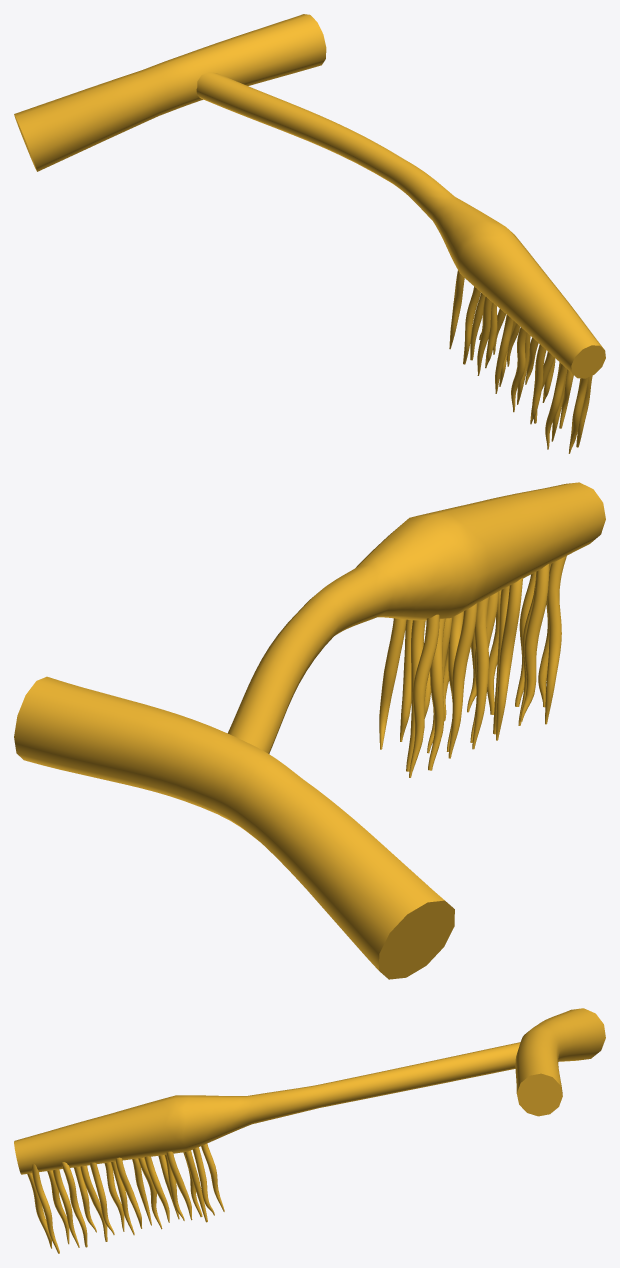
Rendered from nervoso-olfactory-nerve-i-r.glb.
The picture shows the model from 3 angles, top to bottom: view 1: azimuth 30°, elevation 25°; view 2: azimuth 150°, elevation 25°; view 3: azimuth 270°, elevation 25°; orthographic projection. The views are drawn at different scales.
Visible parts, largest first — view 1: Olfactory nerve (I).r; view 2: Olfactory nerve (I).r; view 3: Olfactory nerve (I).r.
Boxes of the visible parts, x1=… form: Olfactory nerve (I).r: x1=14, y1=14, x2=605, y2=453; Olfactory nerve (I).r: x1=14, y1=482, x2=605, y2=979; Olfactory nerve (I).r: x1=14, y1=1008, x2=605, y2=1253.
Bounding box in the file's own units: 0.0234 × 0.0179 × 0.0513.
